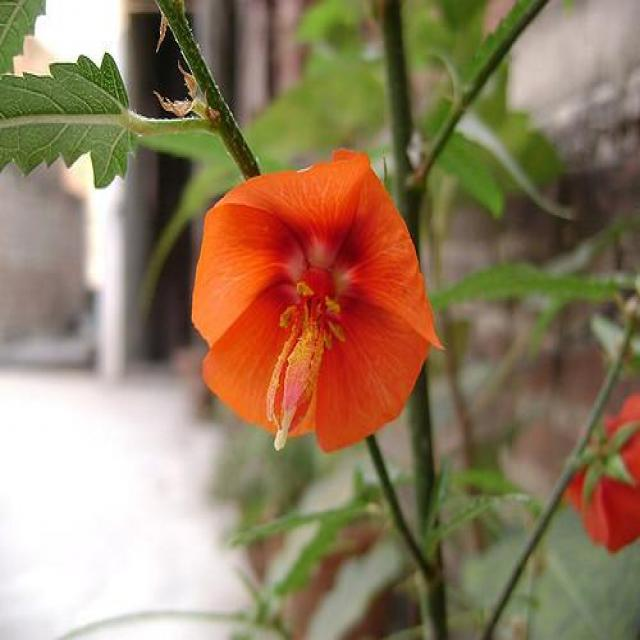organic waste: (189, 154, 437, 446)
